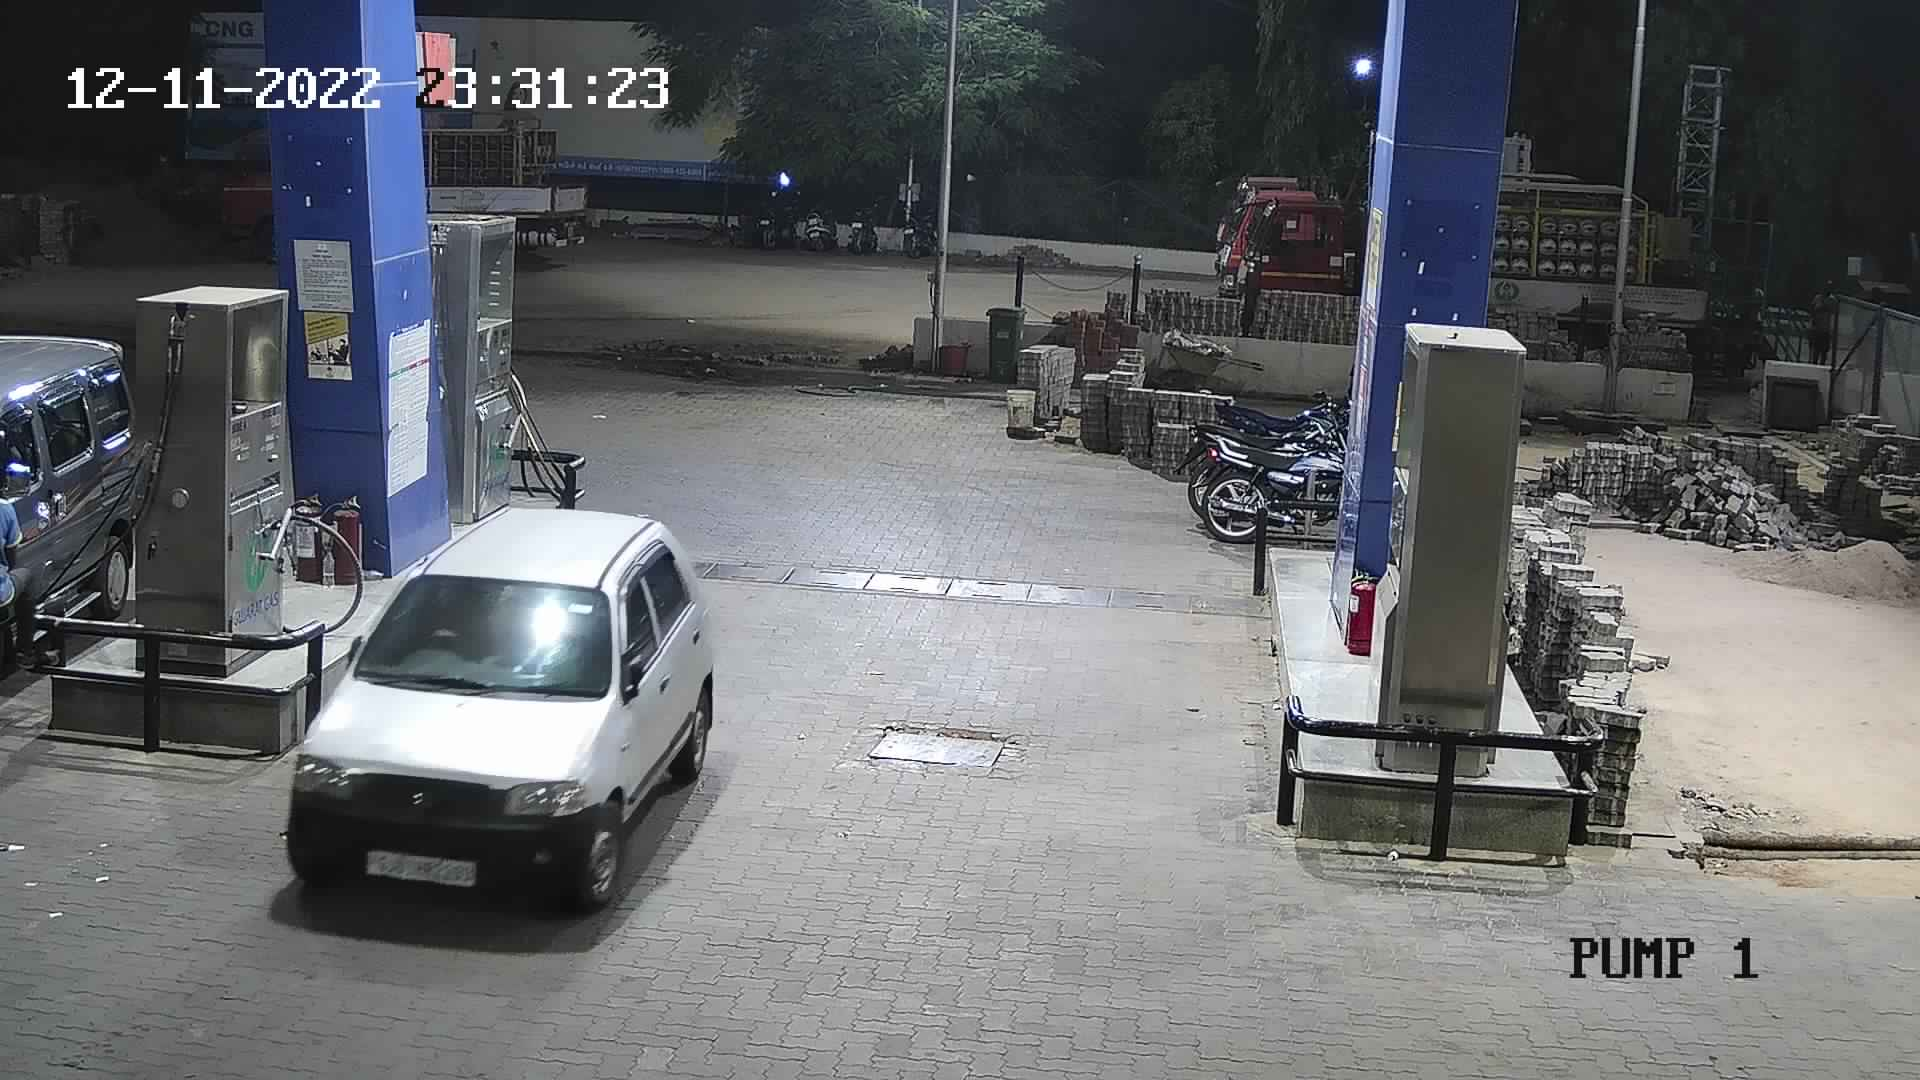Bike: (1179, 389, 1352, 558), (746, 175, 799, 255), (893, 193, 943, 264), (841, 193, 891, 258), (793, 189, 843, 253)
Car: (274, 483, 737, 918), (0, 307, 157, 663)
HMV: (1207, 120, 1375, 339), (413, 86, 601, 260)
Others: (1, 450, 47, 705)
